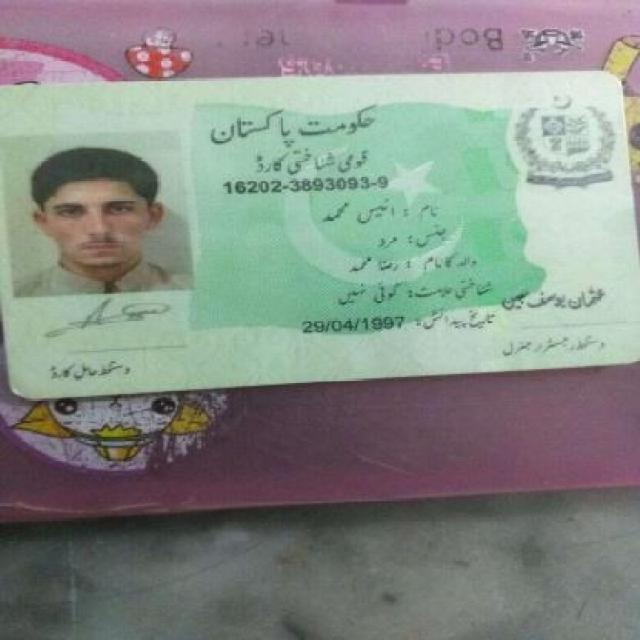Front: (2, 70, 629, 388)
